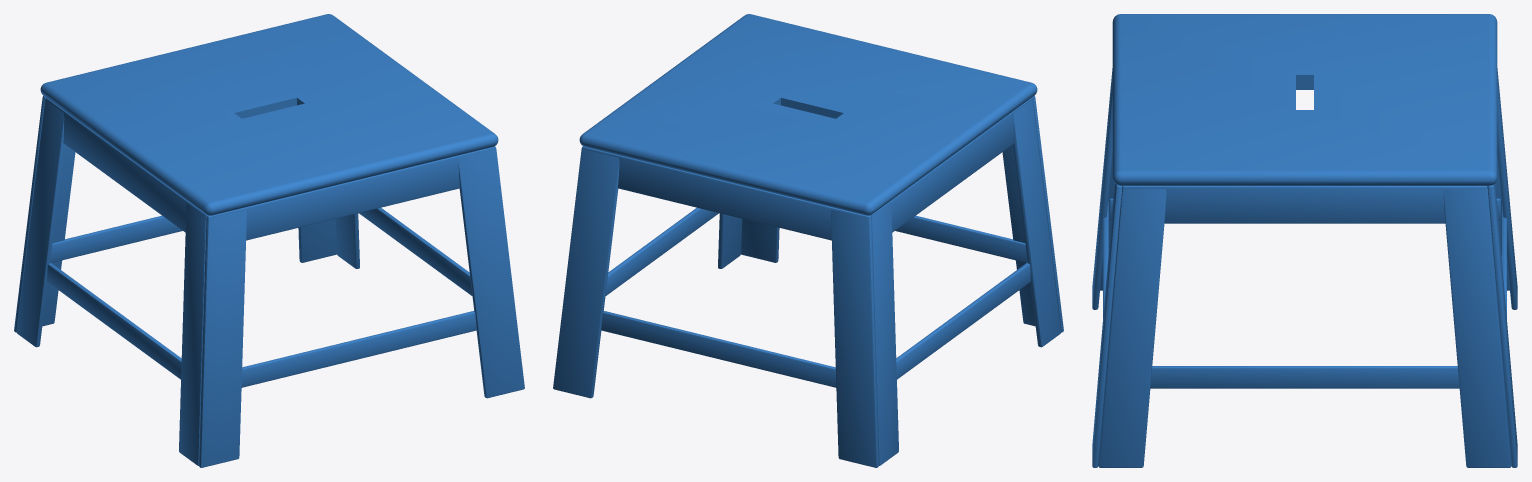
The model's file is ban_nhua.glb.
The picture shows the model from 3 angles, left to right: view 1: azimuth 30°, elevation 25°; view 2: azimuth 150°, elevation 25°; view 3: azimuth 270°, elevation 25°; orthographic projection. The views are drawn at different scales.
Visible parts, largest first — view 1: ban_nhua; view 2: ban_nhua; view 3: ban_nhua.
Part boxes in pixels (x1,y1,x2,y2): ban_nhua: [14, 14, 524, 467]; ban_nhua: [553, 14, 1063, 467]; ban_nhua: [1092, 14, 1517, 467].
Size of the model in its own units: 0.6195 by 0.46 by 0.6195.
